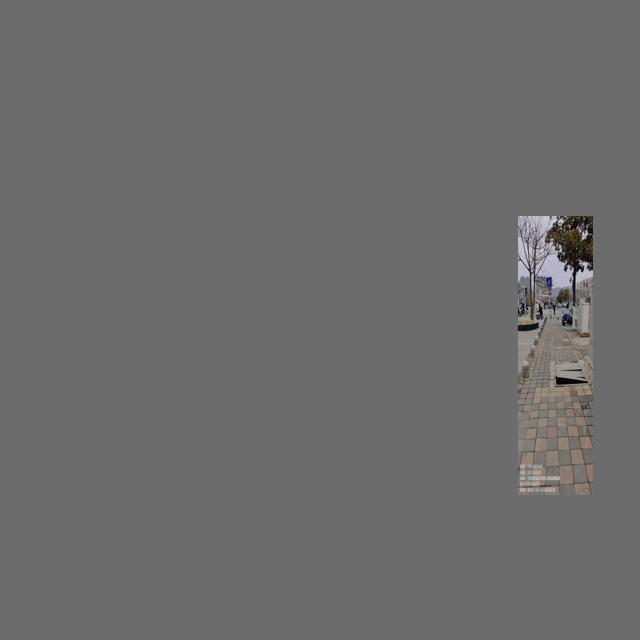good: (551, 339, 575, 348)
uncovered: (554, 360, 591, 386)
